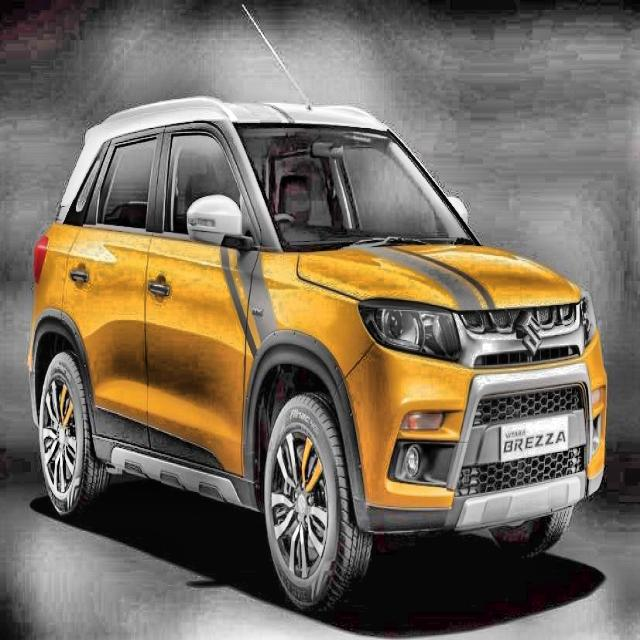Car: (29, 98, 606, 610)
